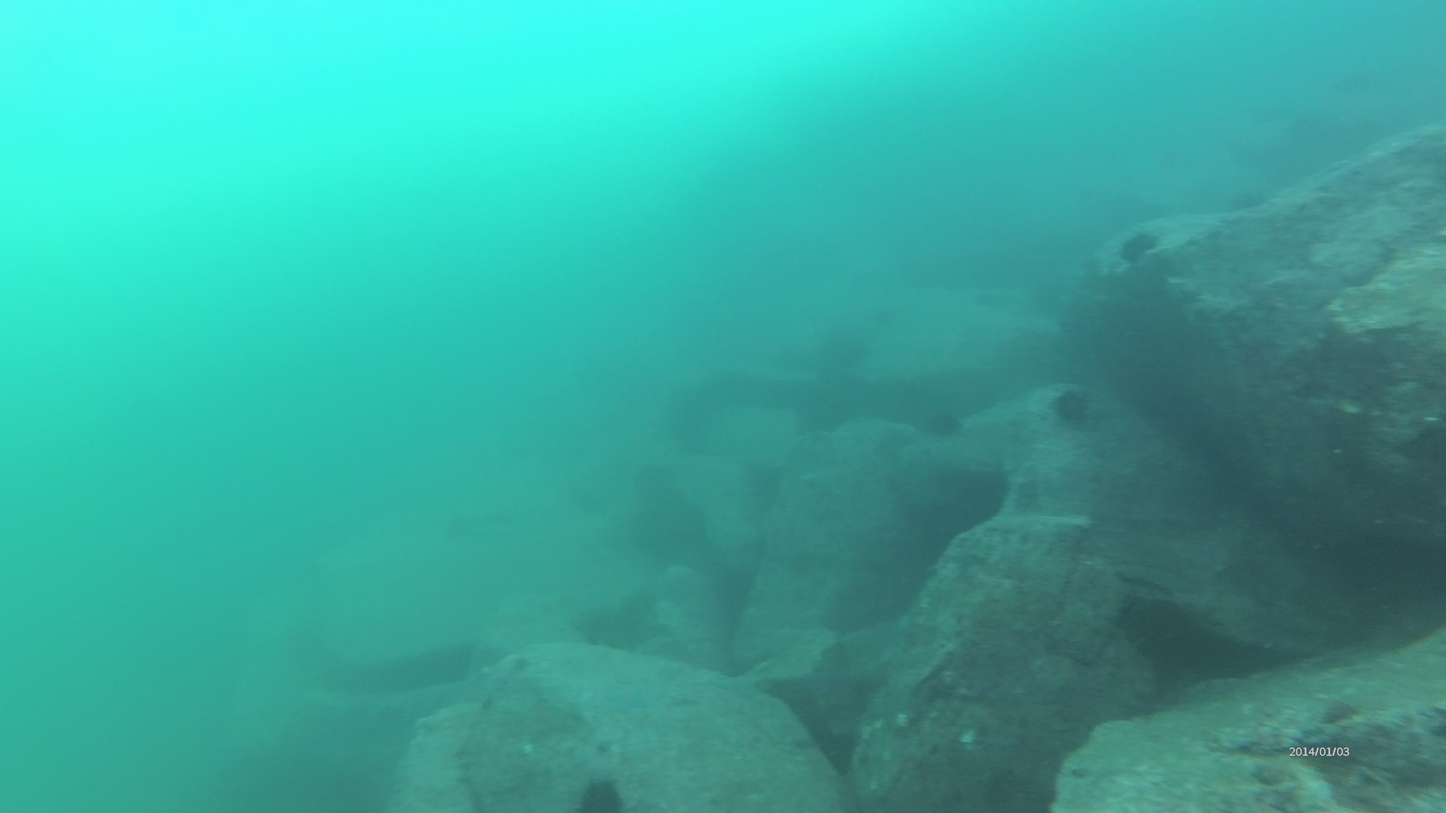starfish: (1044, 385, 1098, 431), (1118, 229, 1165, 265)
